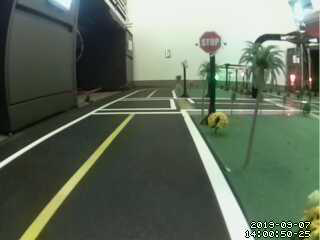Stop_Sign: (194, 28, 229, 62)
